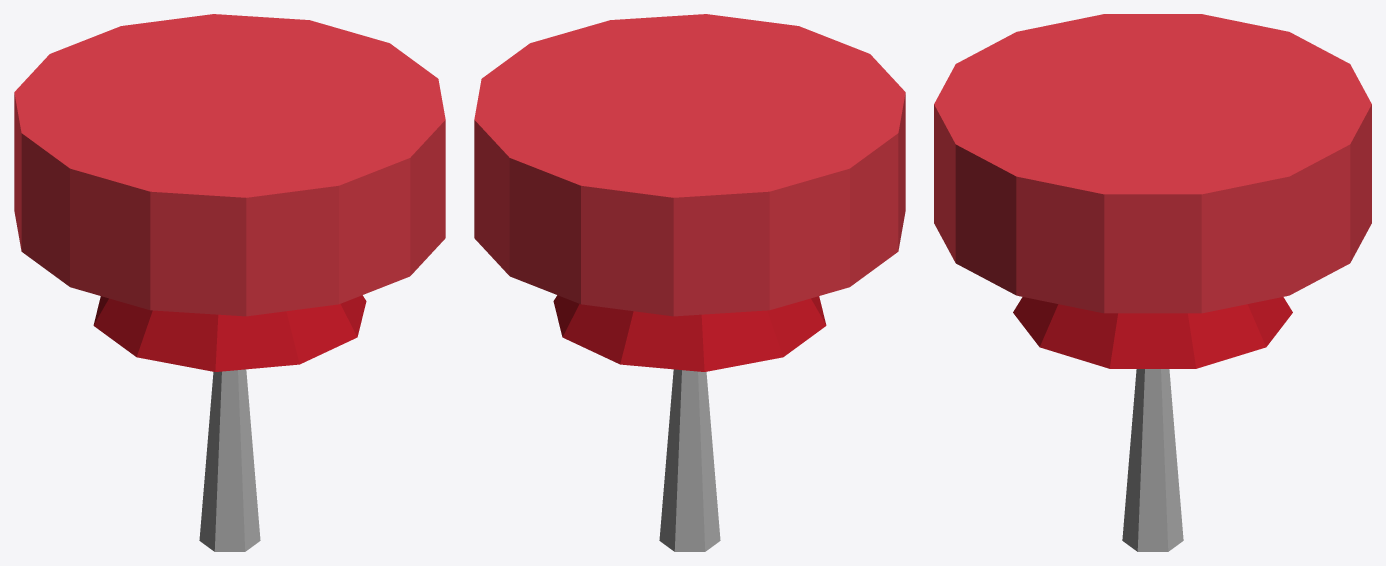
File: thumbtack.glb
The picture shows the model from 3 angles, left to right: view 1: azimuth 30°, elevation 25°; view 2: azimuth 150°, elevation 25°; view 3: azimuth 270°, elevation 25°; orthographic projection.
Parts seen in each view (by area): view 1: Cylinder, Cone, Cone.001; view 2: Cylinder, Cone, Cone.001; view 3: Cylinder, Cone, Cone.001.
Boxes of the visible parts, <box> form: Cylinder: <box>14,14,445,316</box>; Cone: <box>93,295,366,371</box>; Cone.001: <box>199,369,260,551</box>; Cylinder: <box>474,14,905,316</box>; Cone: <box>553,295,826,371</box>; Cone.001: <box>659,369,720,551</box>; Cylinder: <box>934,14,1371,313</box>; Cone: <box>1013,297,1292,368</box>; Cone.001: <box>1122,369,1183,551</box>.
Bounding box in the file's own units: 0.9749 × 1.1 × 1.
